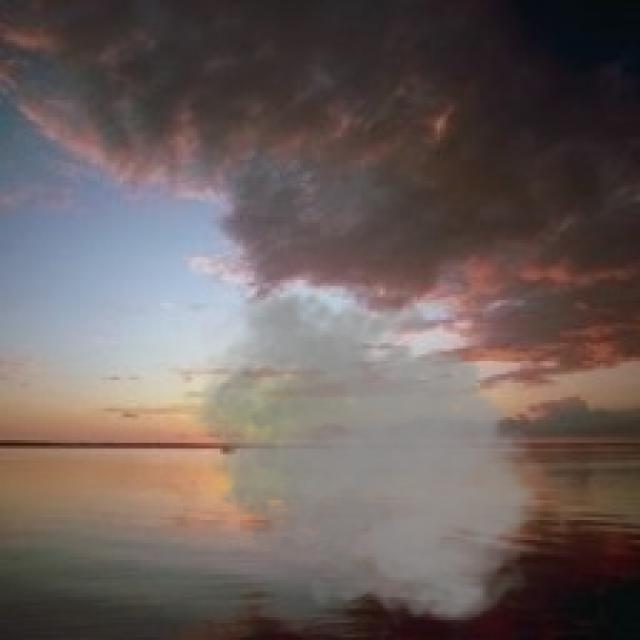Smoke: (172, 280, 552, 629)
